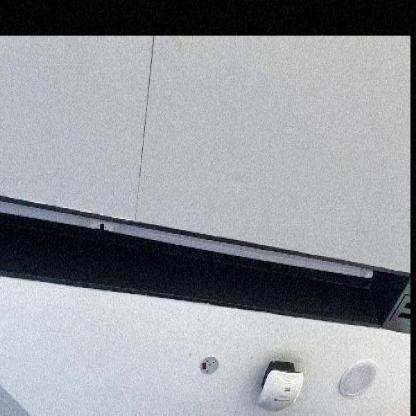light_off: (0, 129, 381, 306)
